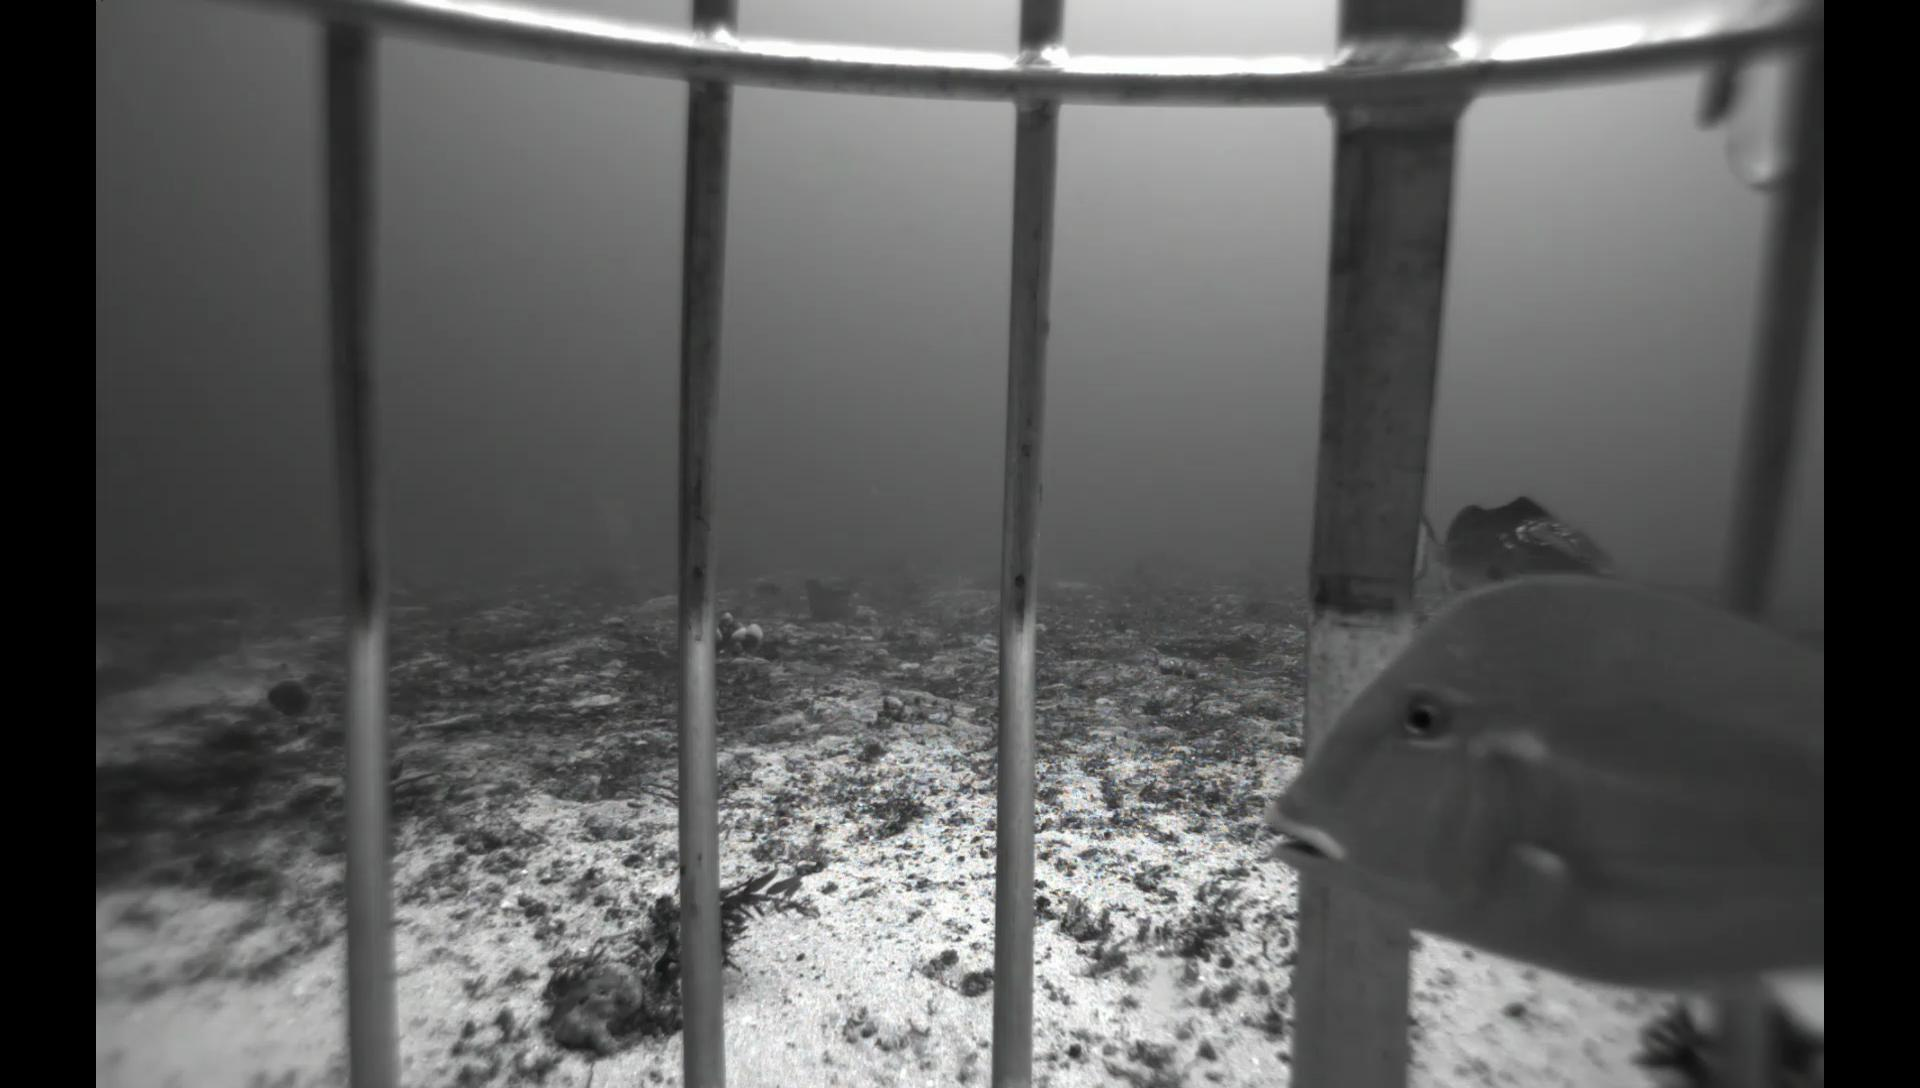CALAMUSPRORIDENS-170210605: (1255, 567, 1822, 1046)
EPINEPHELUSMORIO-170021211: (1414, 495, 1629, 593)
PRISTIGENYSALTA-170050401: (257, 671, 331, 725)
